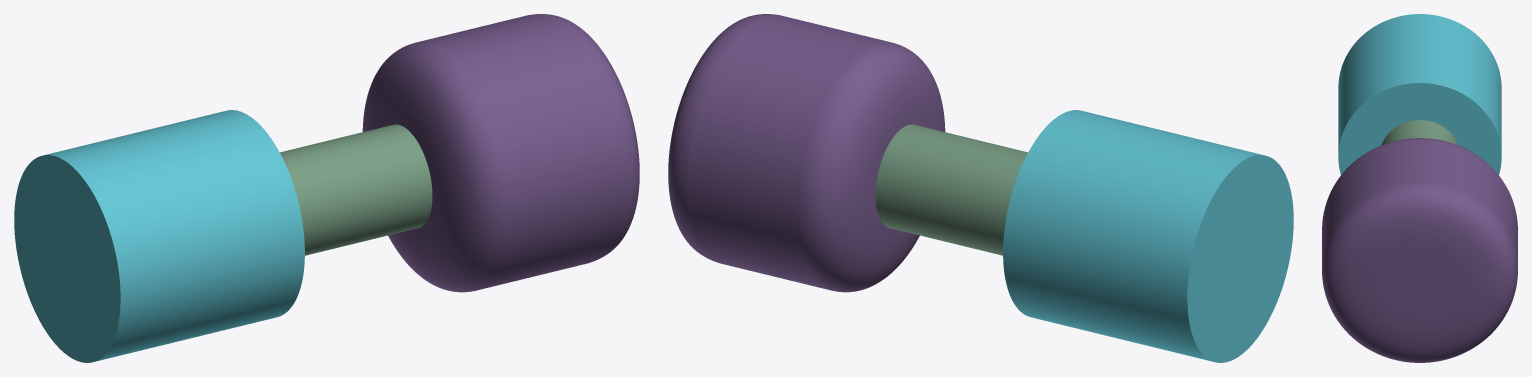
Rendered from 0_canonical.obj.
The picture shows the model from 3 angles, left to right: view 1: azimuth 30°, elevation 25°; view 2: azimuth 150°, elevation 25°; view 3: azimuth 270°, elevation 25°; orthographic projection. The views are drawn at different scales.
Visible parts, largest first — view 1: geometry_2, geometry_1, geometry_0; view 2: geometry_2, geometry_1, geometry_0; view 3: geometry_1, geometry_2, geometry_0.
Part boxes in pixels (x1,y1,x2,y2): geometry_2: (14,110,304,362); geometry_1: (362,14,639,292); geometry_0: (280,124,432,255); geometry_2: (1003,110,1293,362); geometry_1: (668,14,945,292); geometry_0: (875,124,1027,255); geometry_1: (1322,138,1517,362); geometry_2: (1338,14,1501,174); geometry_0: (1381,120,1458,145).
Bounding box in the file's own units: 0.0285 × 0.012 × 0.012.
